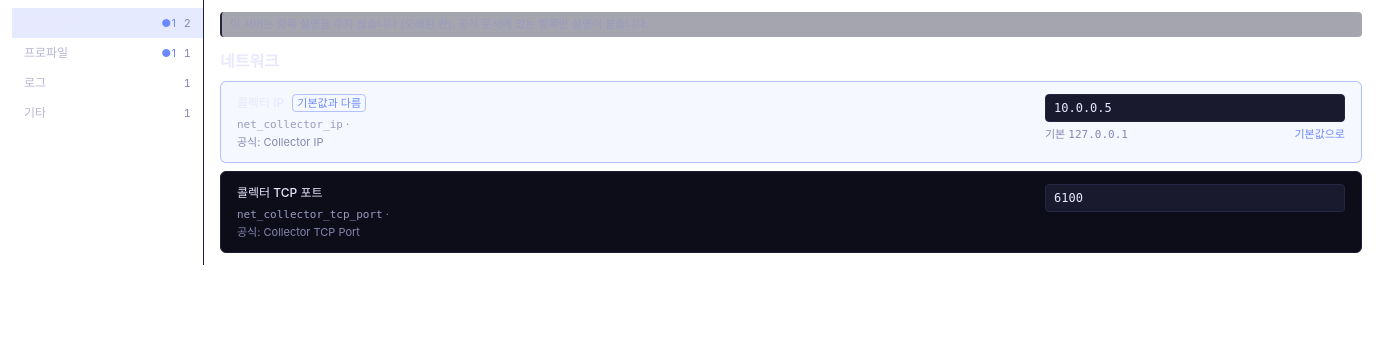
Test case: SettingsForm — 고치기 › 숫자 칸에 글자가 들어가면 저장하지 않는다
Replace the text in the field named "net_collector_tcp_port" with "abc": [1195, 198] box x1=1045 y1=184 x2=1345 y2=212
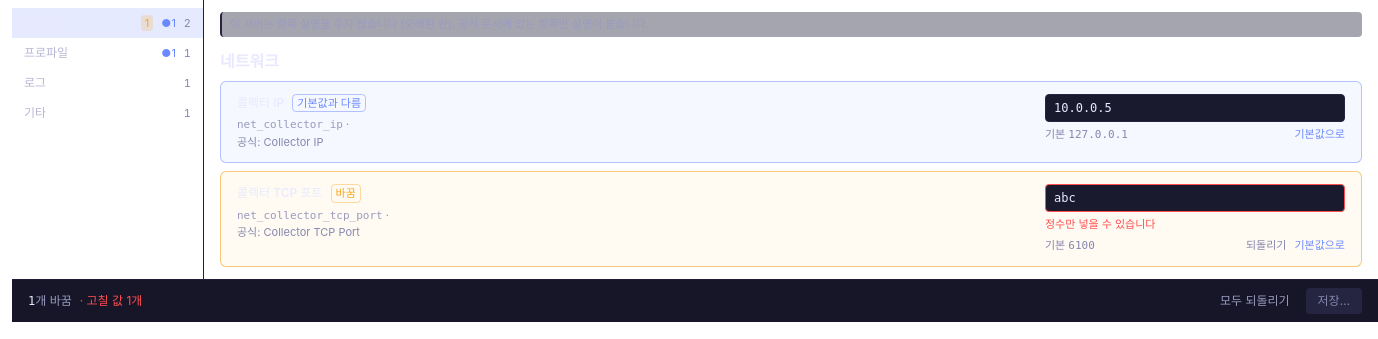
Check: the text "정수만 넣을 수 있습니다" is shown, box x1=1045 y1=217 x2=1156 y2=231
Check: the button "저장…" is disabled, box x1=1306 y1=288 x2=1362 y2=314
